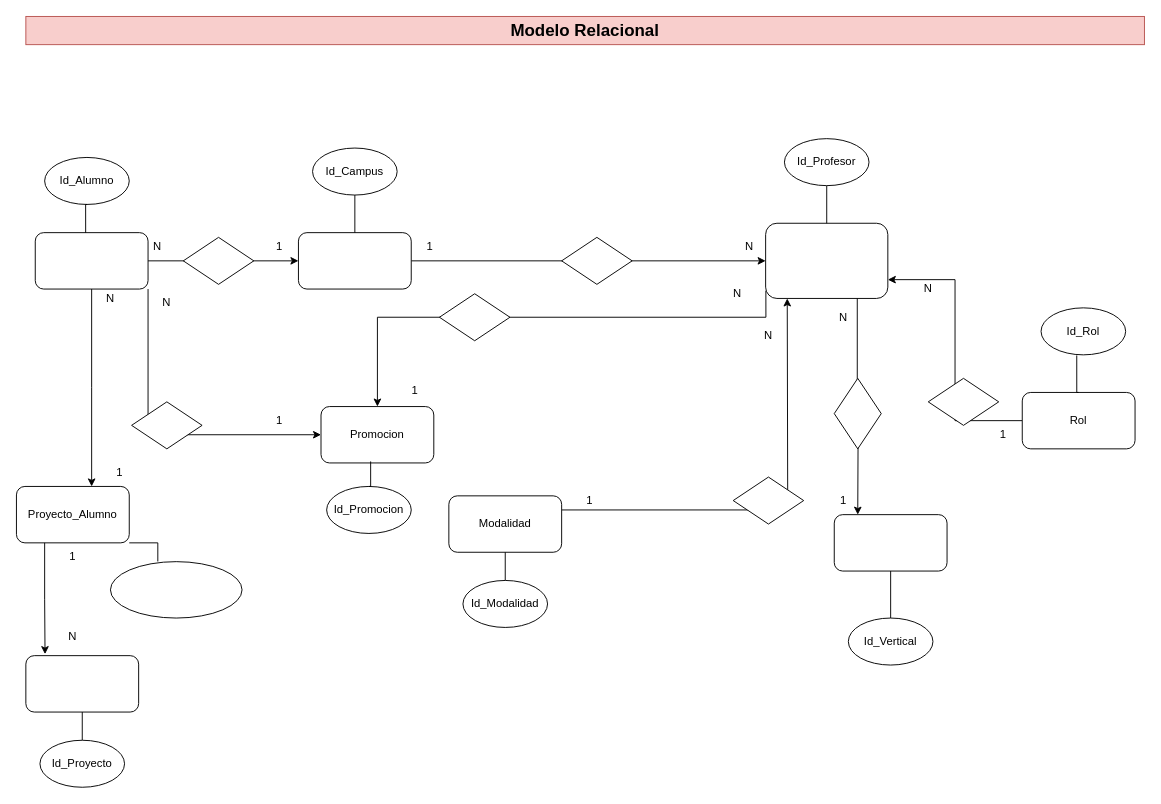
Some shapes in this 1161 by 804 pixel diagram are drawn without their labels. Each missing label, with the box of its shape:
Alumno: (34, 232, 148, 289)
Campus: (298, 232, 411, 289)
Id_Alumno:Id_Proyecto: (110, 561, 242, 618)
Profesor: (765, 222, 888, 298)
Proyecto: (25, 655, 139, 712)
Vertical: (833, 514, 947, 571)
